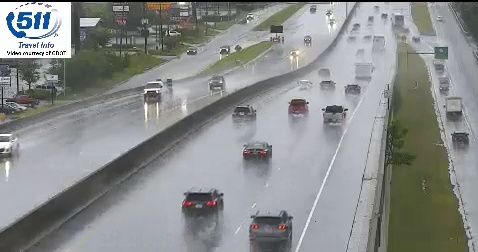car: (250, 210, 293, 243), (183, 188, 222, 218), (243, 143, 272, 162), (233, 106, 256, 124), (323, 106, 344, 123), (288, 99, 308, 115)
